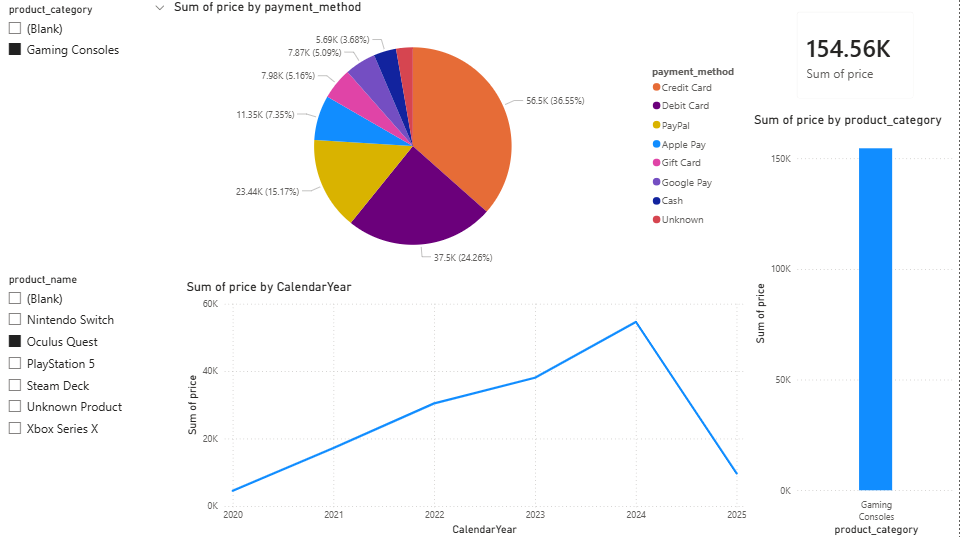

The dashboard page shown, as its layout file describes it:
{"tool":"powerbi","page":{"name":"REPORT 2 — Slicers + Multiple Visuals (Cascading)","canvas":[1280,720],"ordinal":1},"visuals":[{"type":"slicer","fields":{"Values":["DimProduct.product_category"]},"box":[0,0,233.3,340],"z":0},{"type":"slicer","fields":{"Values":["DimProduct.product_name"]},"box":[0,360,228.3,360],"z":1000},{"type":"lineClusteredColumnComboChart","fields":{"Category":["DimProduct.product_category"],"Y":["Sum(FactSales.price)"]},"box":[1001.7,150,278.3,570],"z":2000},{"type":"lineChart","fields":{"Y":["Sum(FactSales.price)"],"Category":["DimDate.CalendarYear"]},"box":[245,373.3,756.7,346.7],"z":3000},{"type":"pieChart","fields":{"Category":["DimPaymentMethod.payment_method"],"Y":["Sum(FactSales.price)"]},"box":[228.3,0,773.3,373.3],"z":4000},{"type":"cardVisual","fields":{"Data":["Sum(FactSales.price)"]},"box":[1046.7,0,190,150],"z":5000}]}

Visuals, with their boxes in screenshot pixels (x1, y1, x2, y2), scaled from the page's 1280x720 canvas onto the 960x537 screenshot:
slicer - DimProduct.product_category: Rect(0, 0, 175, 254)
slicer - DimProduct.product_name: Rect(0, 268, 171, 536)
lineClusteredColumnComboChart - DimProduct.product_category x Sum(FactSales.price): Rect(751, 112, 959, 536)
lineChart - Sum(FactSales.price) x DimDate.CalendarYear: Rect(184, 278, 751, 536)
pieChart - DimPaymentMethod.payment_method x Sum(FactSales.price): Rect(171, 0, 751, 278)
cardVisual - Sum(FactSales.price): Rect(785, 0, 928, 112)
